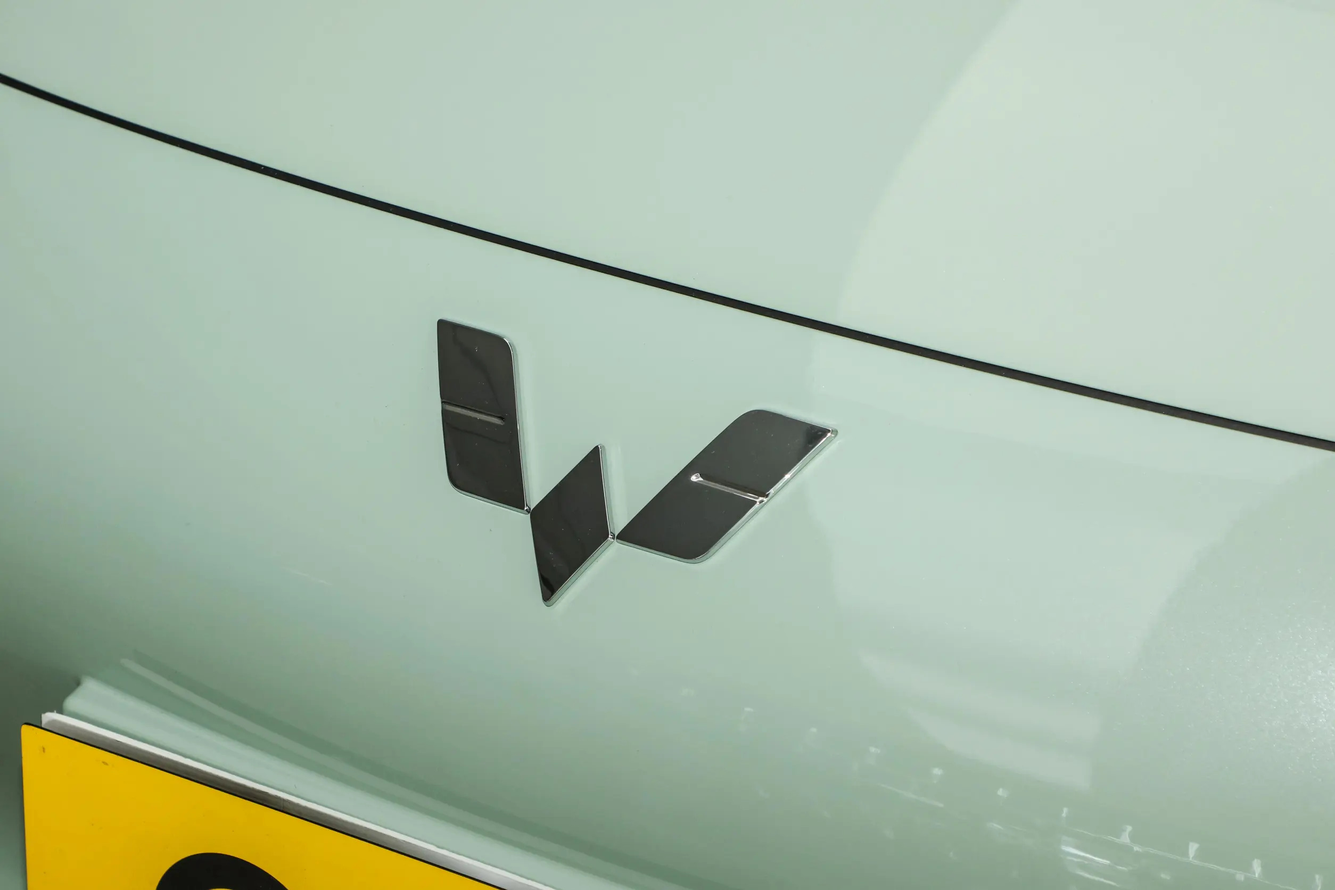SGMW: (436, 319, 837, 606)
